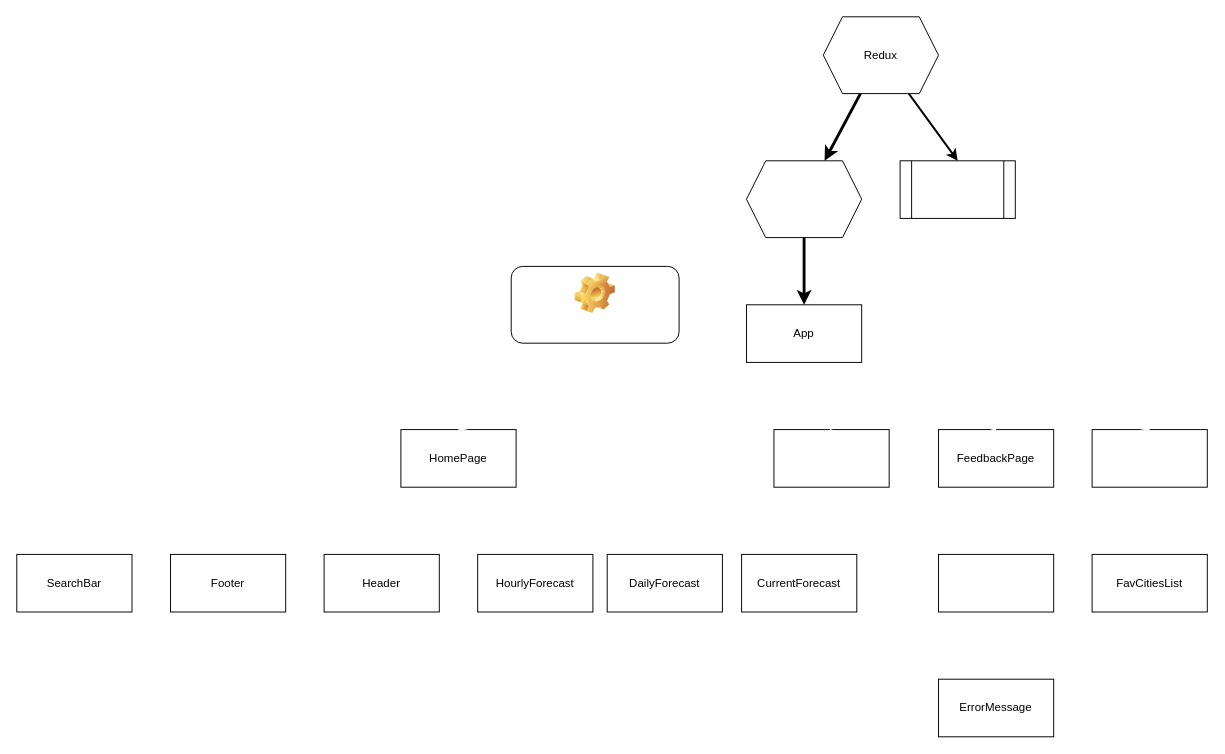
This 1225x754 diagram has some shape labels left out. The shapes that lost their labels are listed below. From the top down, each one's box as (x1, y1, x2, y2) in pixels, then its label:
(746, 160, 862, 238): ThemeContext
(899, 160, 1015, 218): Local Storage
(510, 265, 679, 343): WORK IN PROGRESS!
(773, 429, 889, 487): About
(1091, 429, 1207, 487): FavPage
(938, 553, 1054, 612): FeedBackForm
